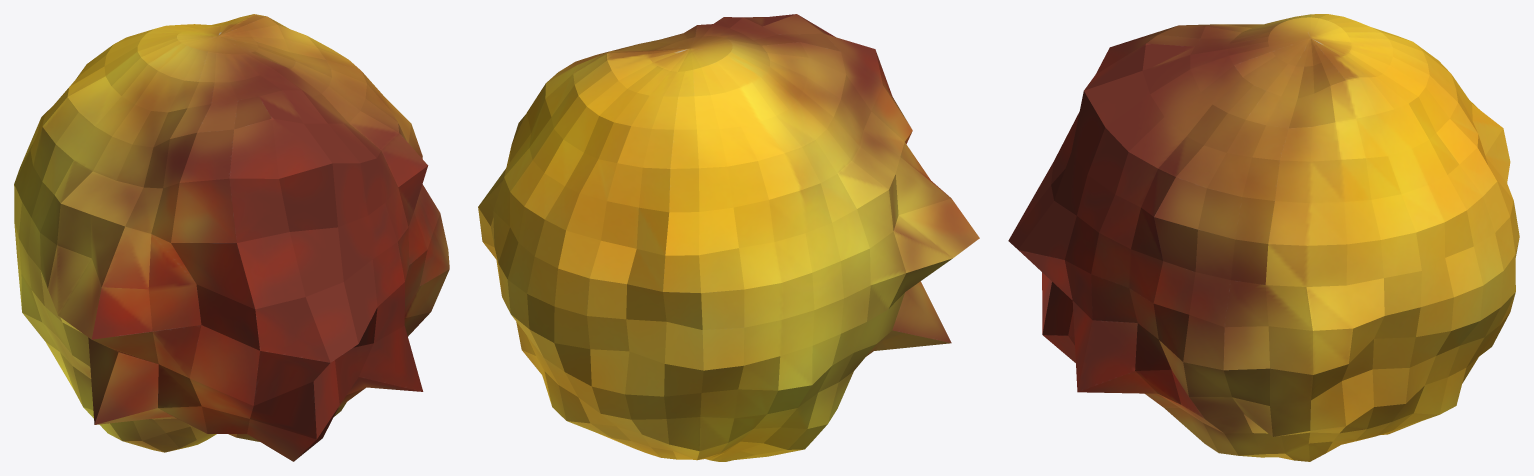
Rendered from FIREBALL.fbx.
The picture shows the model from 3 angles, left to right: view 1: azimuth 30°, elevation 25°; view 2: azimuth 150°, elevation 25°; view 3: azimuth 270°, elevation 25°; orthographic projection. The views are drawn at different scales.
Visible parts, largest first — view 1: Sphere; view 2: Sphere; view 3: Sphere.
Part boxes in pixels (bbox=[...]): Sphere: bbox=[14, 14, 449, 461]; Sphere: bbox=[478, 14, 979, 461]; Sphere: bbox=[1008, 14, 1519, 461].
Size of the model in its own units: 231 by 217 by 243.
Materials: 1 (1 with a texture image).
